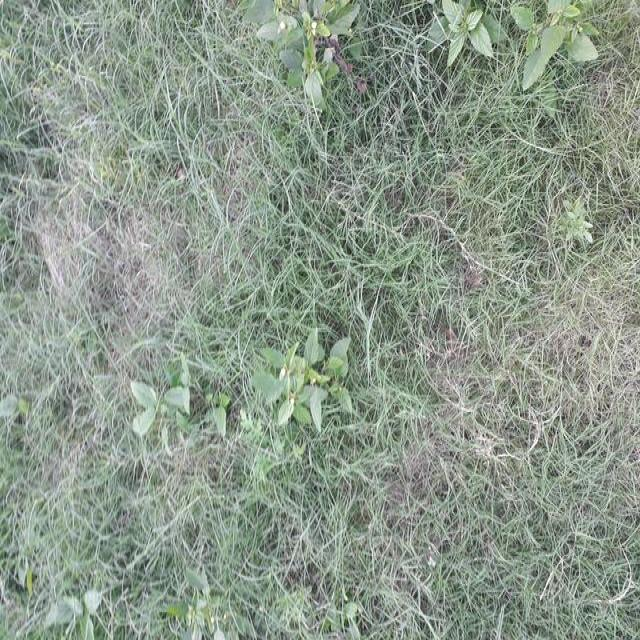weed: (264, 0, 350, 104), (123, 360, 201, 458), (266, 341, 352, 424), (514, 0, 586, 81), (430, 0, 494, 61), (38, 587, 110, 640), (566, 206, 599, 257)
